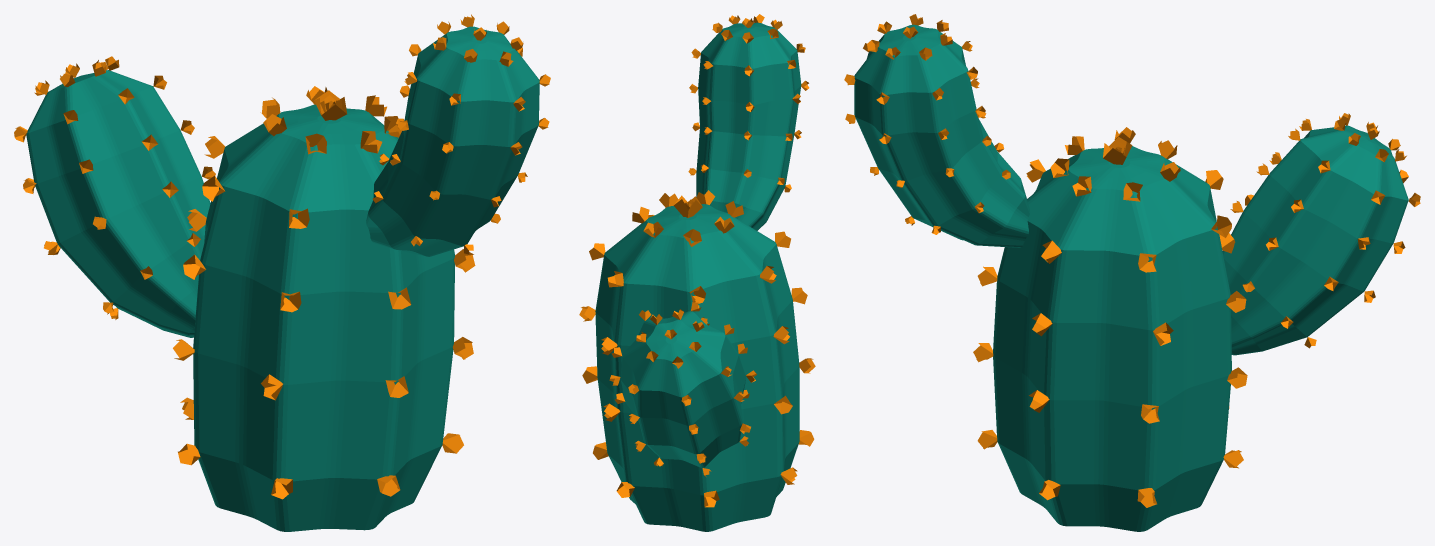
File: kaktus04.fbx
3 views of the same model, side by side, from view 1: azimuth 30°, elevation 25°; view 2: azimuth 150°, elevation 25°; view 3: azimuth 270°, elevation 25° (orthographic). The views are drawn at different scales.
Visible parts, largest first — view 1: kaktus04; view 2: kaktus04; view 3: kaktus04.
Boxes of the visible parts, box(x1,y1,x2,y2) form: kaktus04: box(14, 14, 550, 531); kaktus04: box(579, 14, 815, 531); kaktus04: box(844, 14, 1420, 531).
Size of the model in its own units: 0.698 by 1.24 by 1.17.
